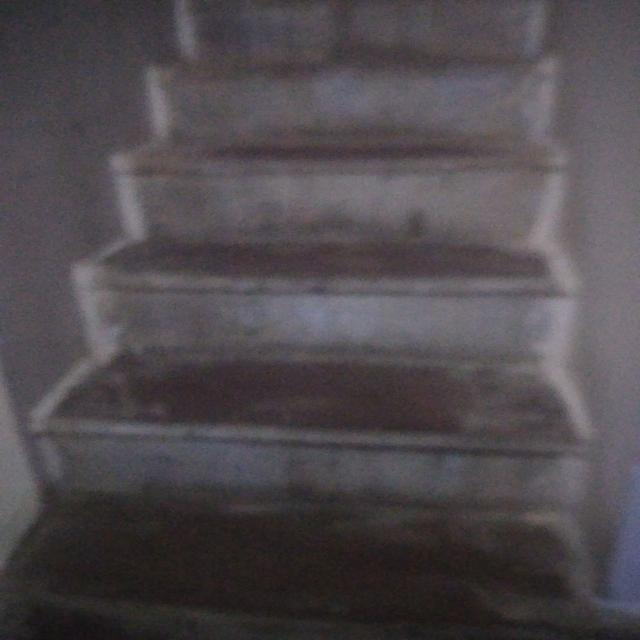stair: (59, 76, 603, 595)
